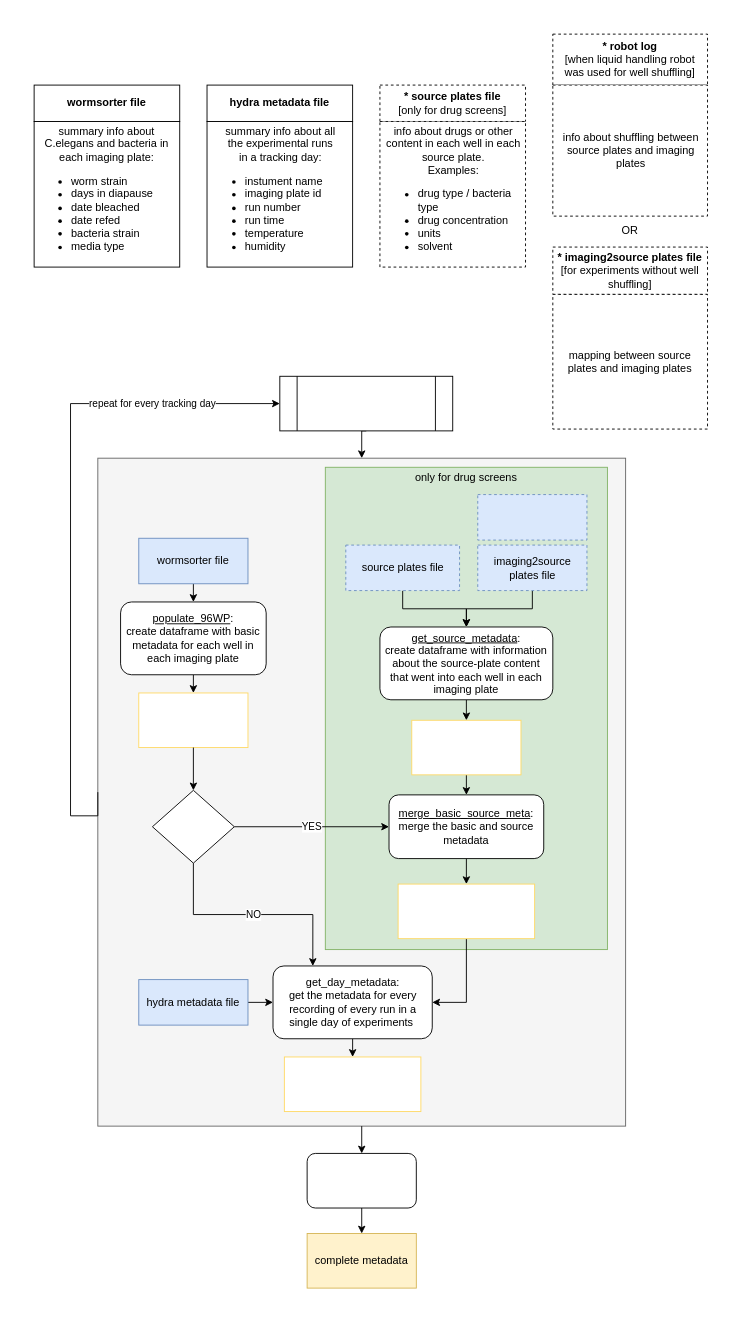
Image size: 741x1323. Some labels were removed from this diagram. The shapes that lost their labels are listed below. From the top down, each one's centre as x and y in pixels, then its label:
At [366,403]: "get day metadata".
At [532,517]: "robot log".
At [193,720]: "basic imaging plate metadata plate_metadata".
At [466,747]: "source-plate metadata for imaging plates source_metadata".
At [193,826]: "IS drug screen".
At [466,911]: "complete imaging plate metadata complete_plate_metadata".
At [352,1084]: "complete metadata for one tracking day day_metadata".
At [361,1180]: "concatenate metadata from all tracking days".
